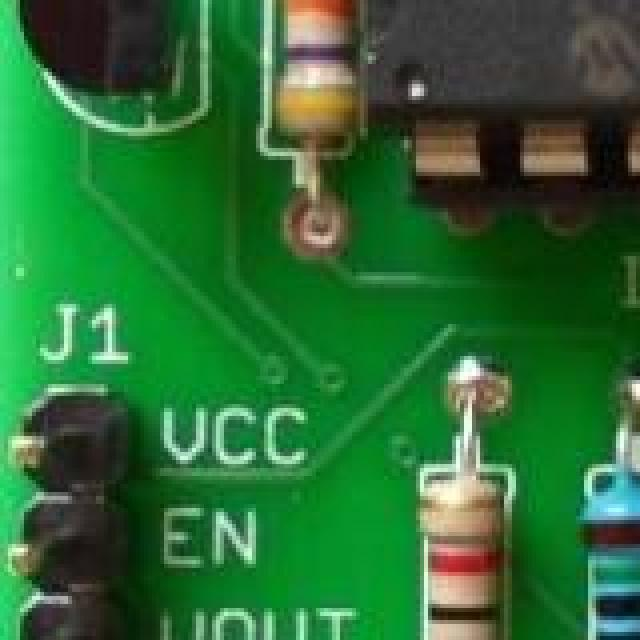IC: (364, 0, 640, 196)
connector: (12, 396, 128, 640)
resistor: (420, 428, 520, 640), (264, 0, 360, 172), (580, 440, 640, 640)
